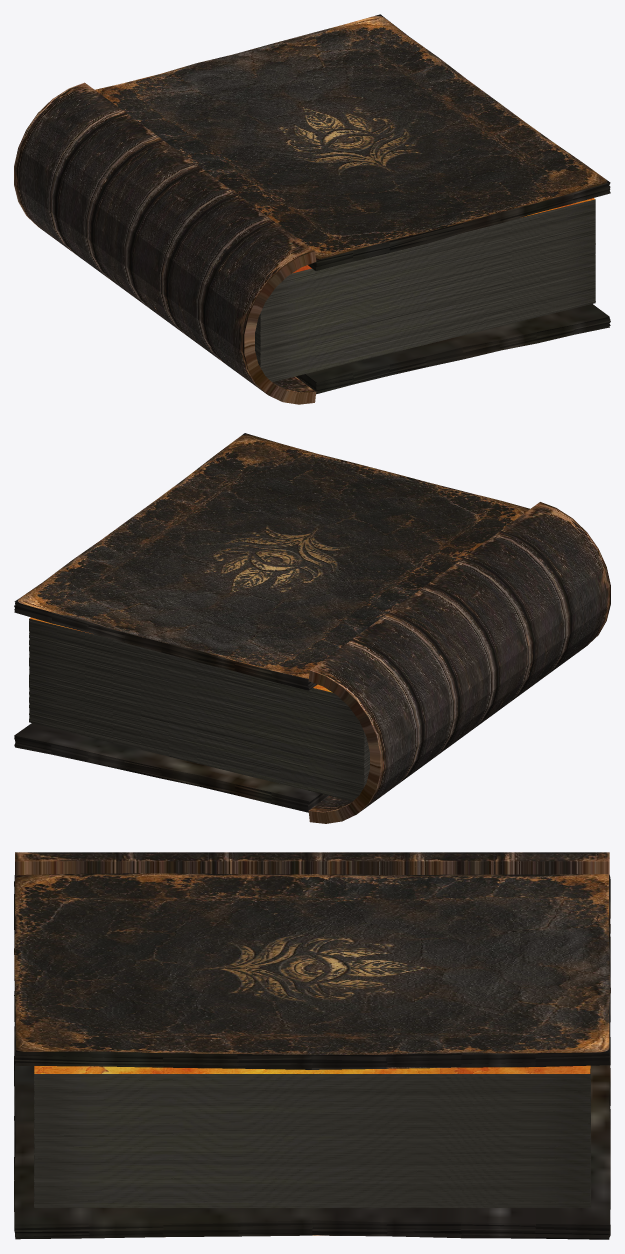
File: book.glb
The picture shows the model from 3 angles, top to bottom: view 1: azimuth 30°, elevation 25°; view 2: azimuth 150°, elevation 25°; view 3: azimuth 270°, elevation 25°; orthographic projection. The views are drawn at different scales.
Visible parts, largest first — view 1: Cover_Front, Spine, Pages, Cover_Back; view 2: Cover_Front, Spine, Pages, Cover_Back; view 3: Cover_Front, Pages, Cover_Back, Spine.
Boxes of the visible parts, left/top/right/bottom form: Cover_Front: left=95, top=14, right=610, bottom=270; Spine: left=14, top=82, right=316, bottom=404; Pages: left=255, top=198, right=595, bottom=381; Cover_Back: left=295, top=304, right=610, bottom=394; Cover_Front: left=14, top=433, right=529, bottom=690; Spine: left=308, top=502, right=610, bottom=823; Pages: left=29, top=617, right=369, bottom=801; Cover_Back: left=14, top=723, right=328, bottom=812; Cover_Front: left=14, top=873, right=610, bottom=1069; Pages: left=34, top=1065, right=590, bottom=1207; Cover_Back: left=14, top=1056, right=610, bottom=1239; Spine: left=15, top=852, right=609, bottom=874.
Size of the model in its own units: 0.3106 by 0.1229 by 0.3393.
5 materials, 5 textured.
